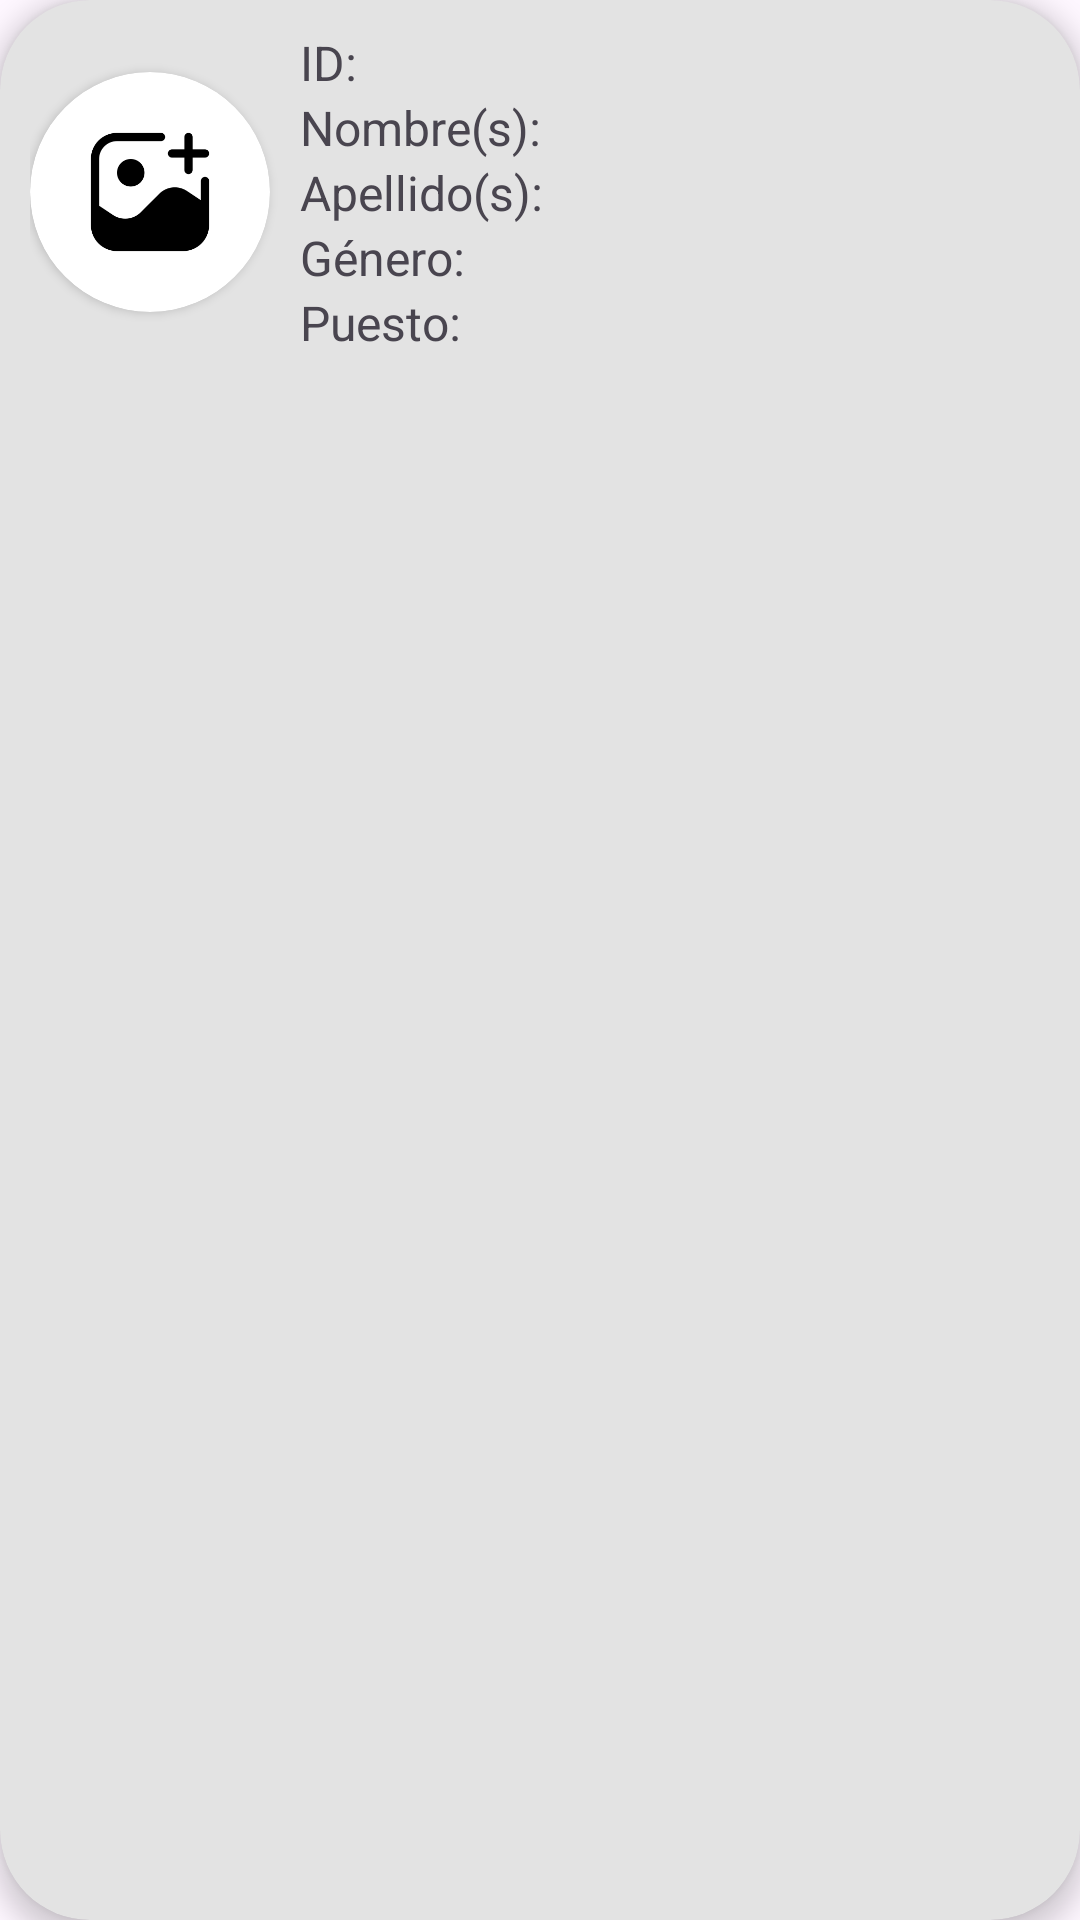

Icon click points for this 1080w x 1920h phone screenshot, format point (x, y):
agregar: point (150, 192)
